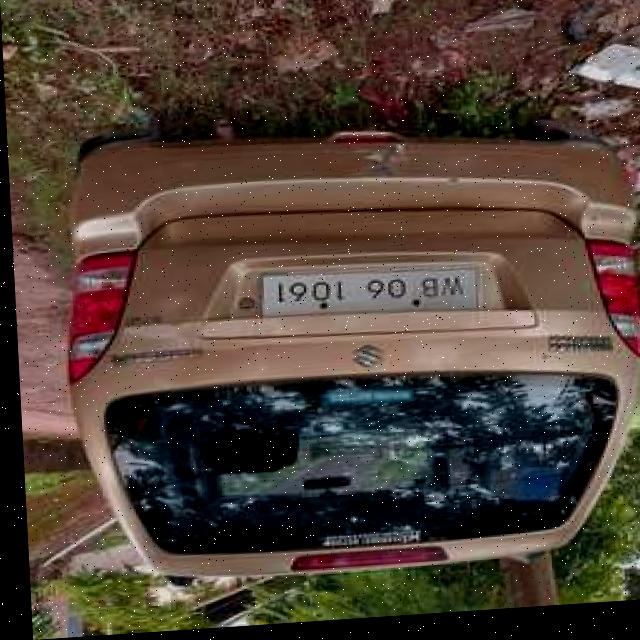plate: (258, 267, 474, 327)
